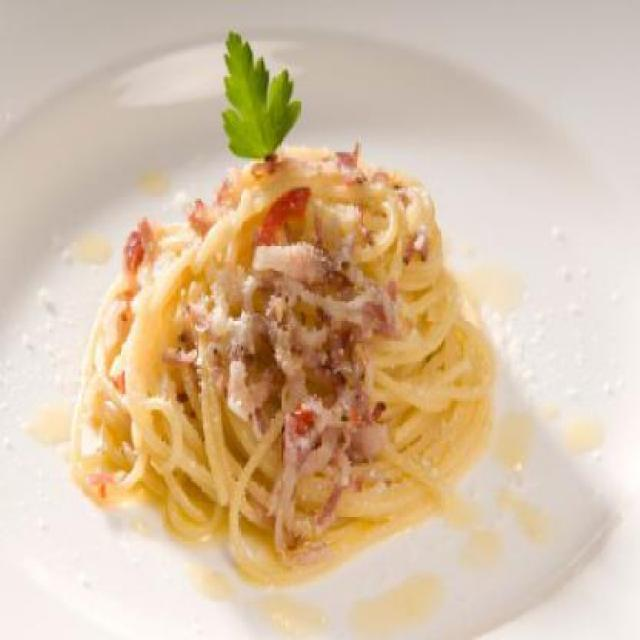Pasta with carbonara sauce: (83, 54, 557, 600)
